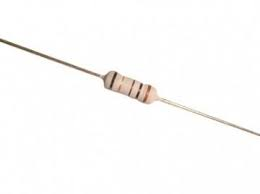resistor: (94, 59, 162, 115)
